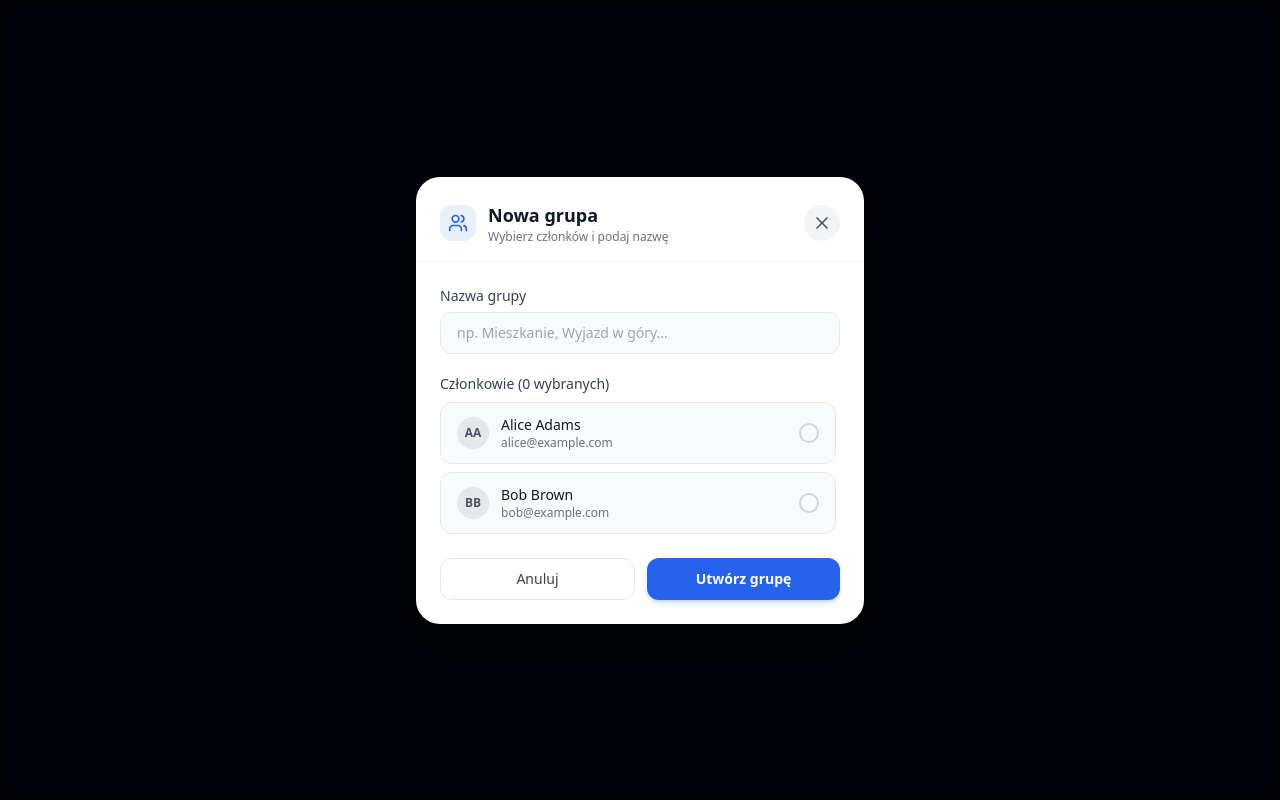
Test: CreateGroupModal › displays API error message on failure
The image size is (1280, 800).
Type "Test Group" into the field with placeholder "np. Mieszkanie, Wyjazd w góry..." at (640, 332), box [440, 312, 840, 354]
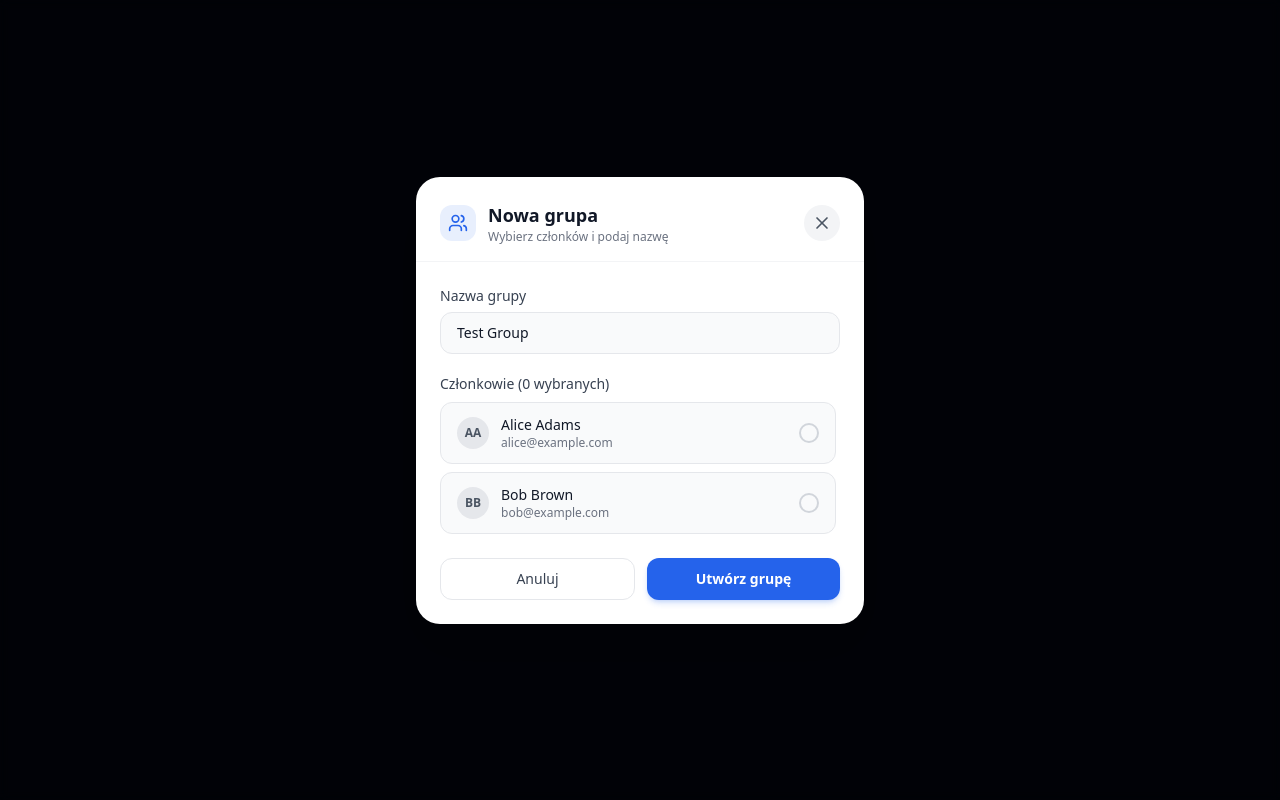
Click the text "Bob Brown" at (537, 494), box [501, 484, 573, 504]
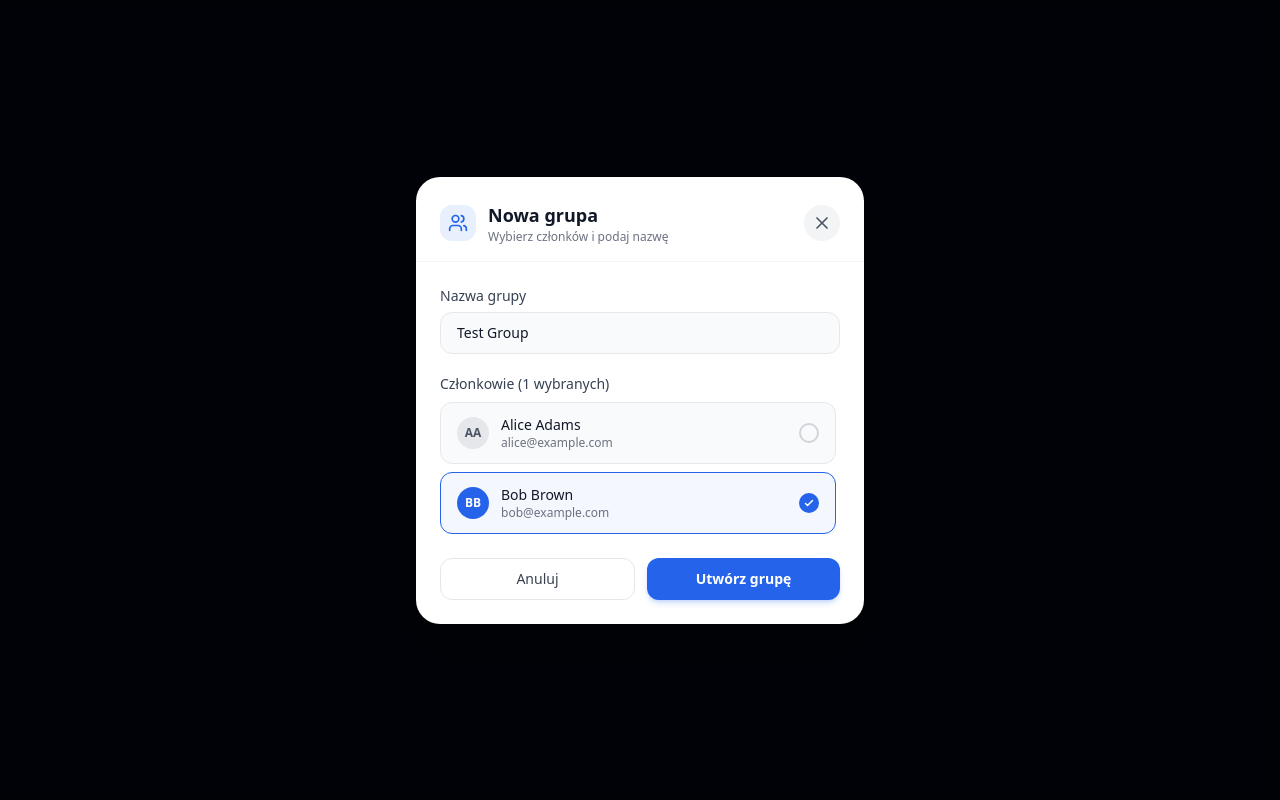
Click the button "Utwórz grupę" at (744, 578), box [647, 558, 840, 600]
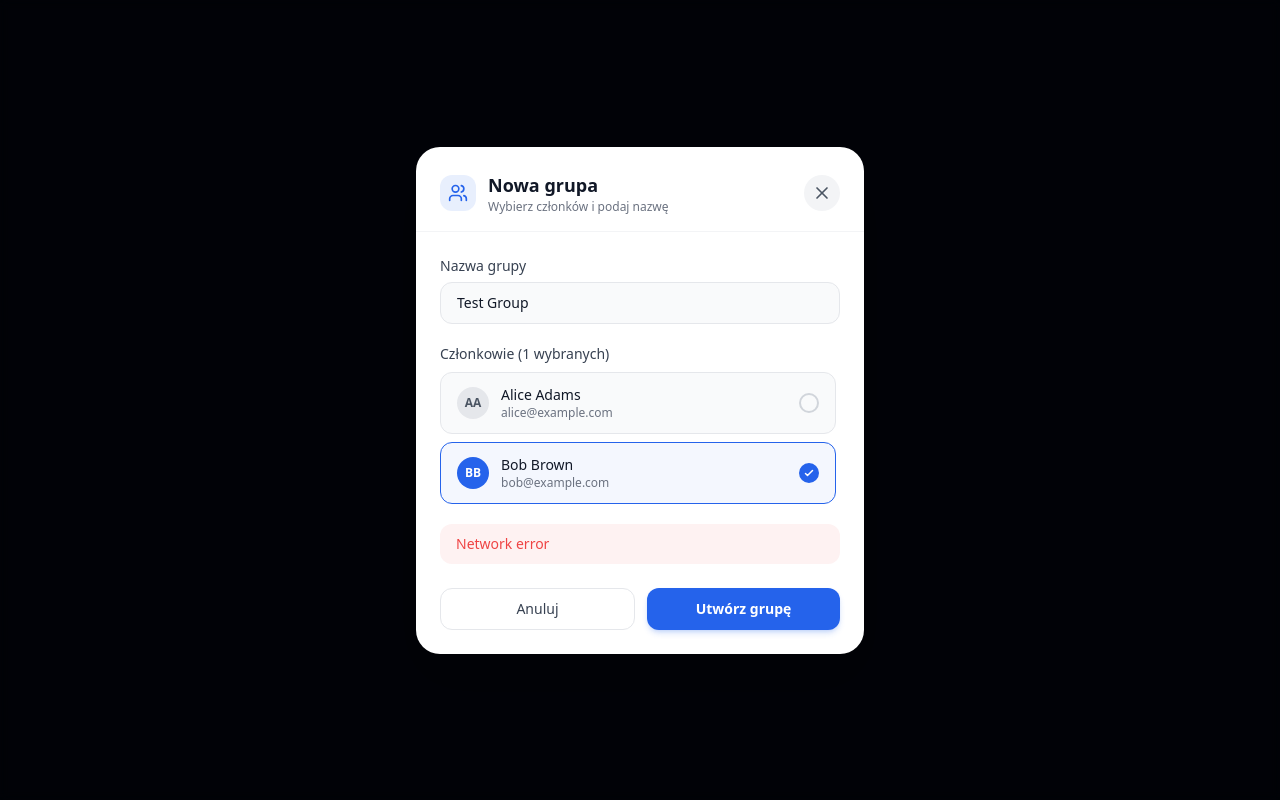
Check: the text "Network error" is shown, box [440, 524, 840, 564]
